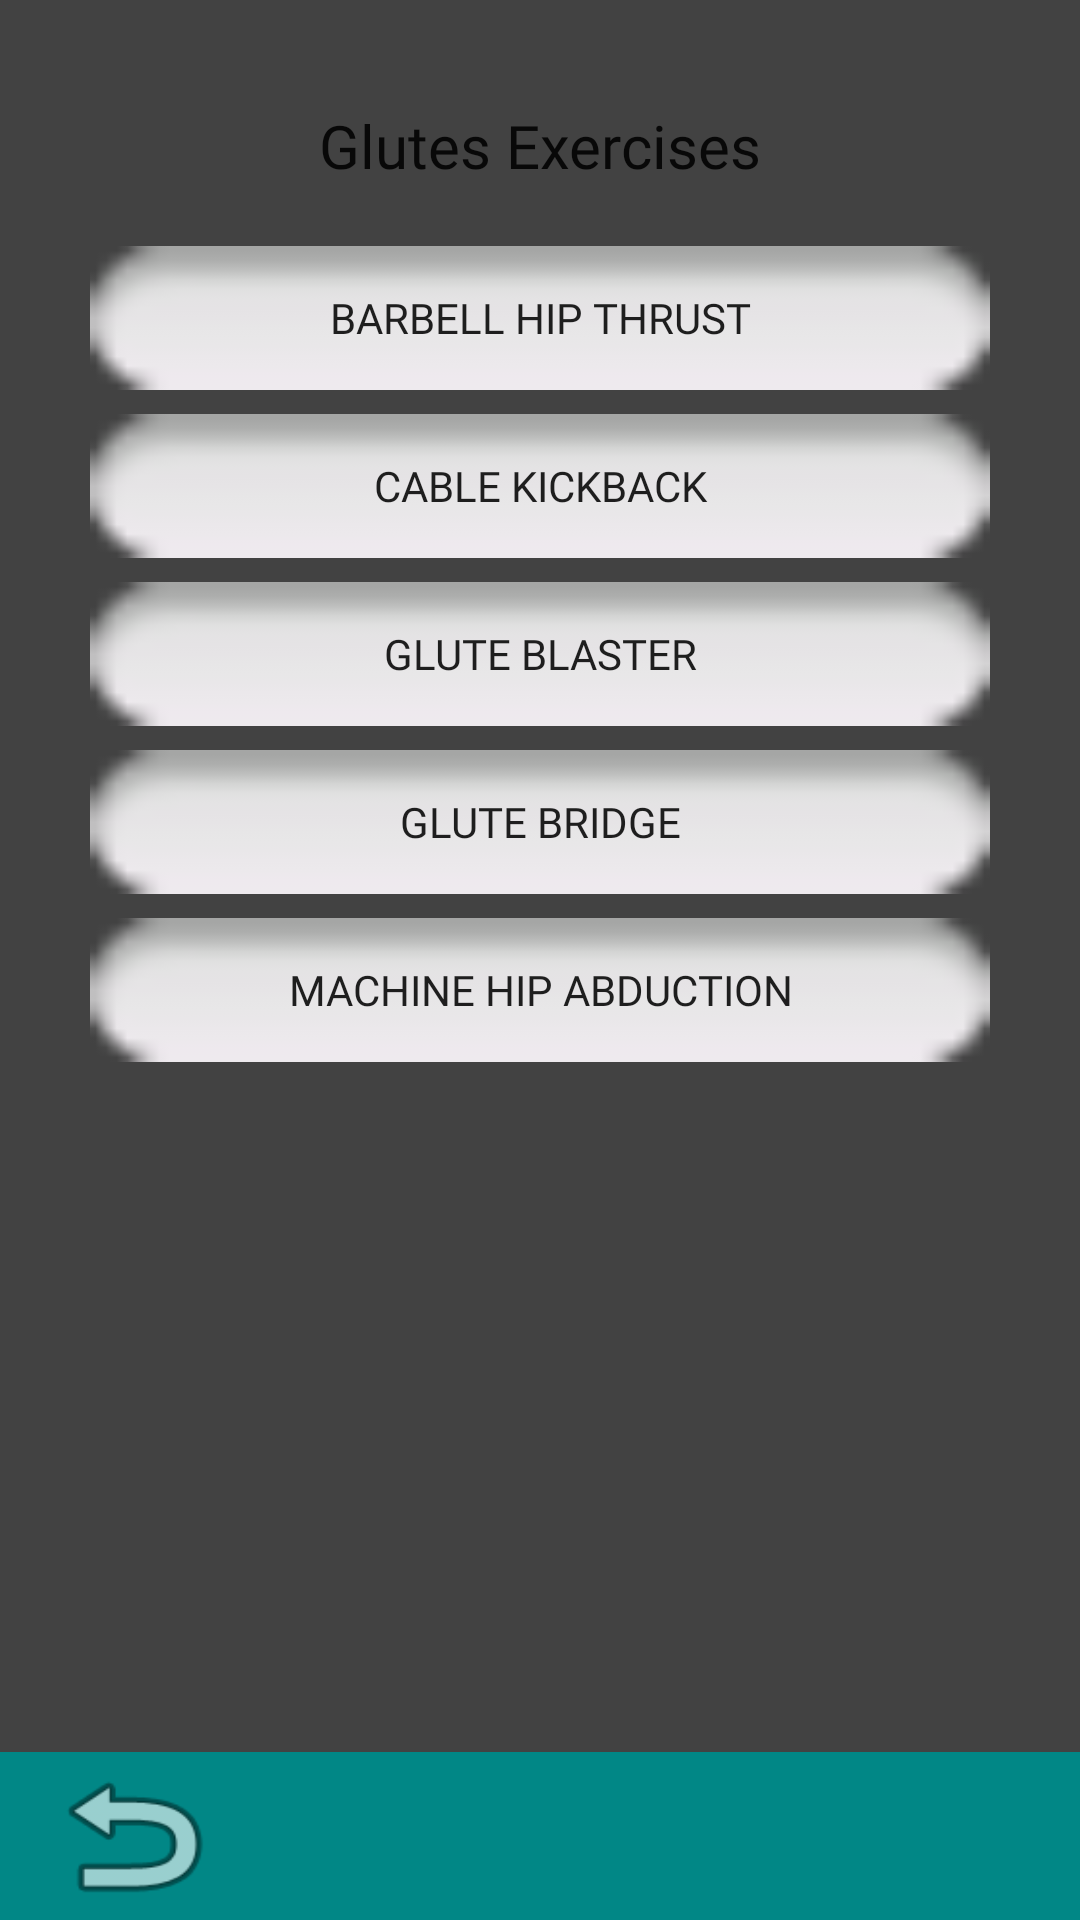

Named icons in this screenshot (1080w x 1920h) and their bounding boxes, (x1=x1, y1=y1, x2=x2, y2=y2):
revert: (x1=69, y1=1783, x2=202, y2=1892)
